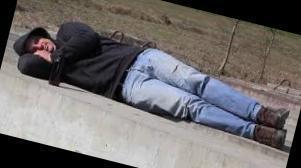Drunk: (28, 37, 55, 55)
